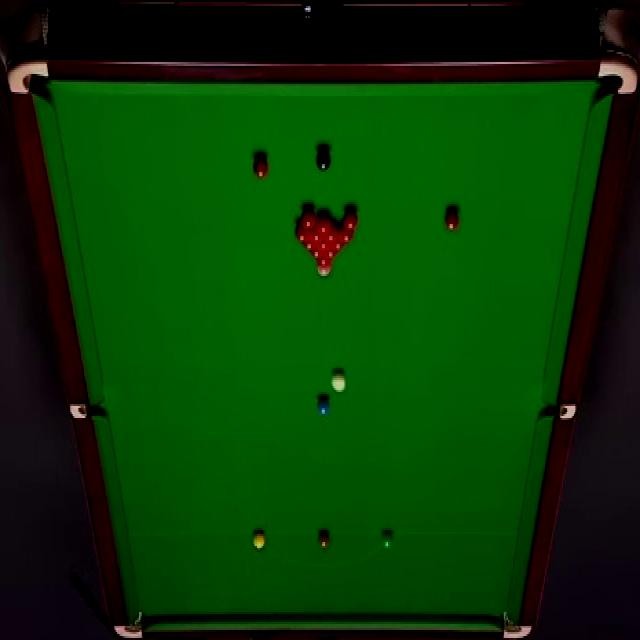black-ball: (314, 149, 330, 173)
blue-ball: (316, 398, 331, 415)
brown-ball: (317, 531, 331, 549)
green-ball: (380, 530, 395, 552)
pink-ball: (317, 262, 332, 276)
red-ball: (252, 154, 270, 180), (298, 207, 316, 230), (445, 208, 459, 232), (316, 213, 331, 235), (337, 222, 352, 244), (342, 210, 358, 230), (295, 221, 308, 243), (325, 221, 338, 242), (304, 239, 315, 251), (318, 238, 329, 250), (318, 253, 328, 265)
white-ball: (331, 369, 345, 391)
yellow-ball: (253, 530, 265, 550)
